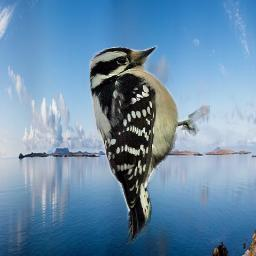Woodpecker: (86, 42, 210, 244)
